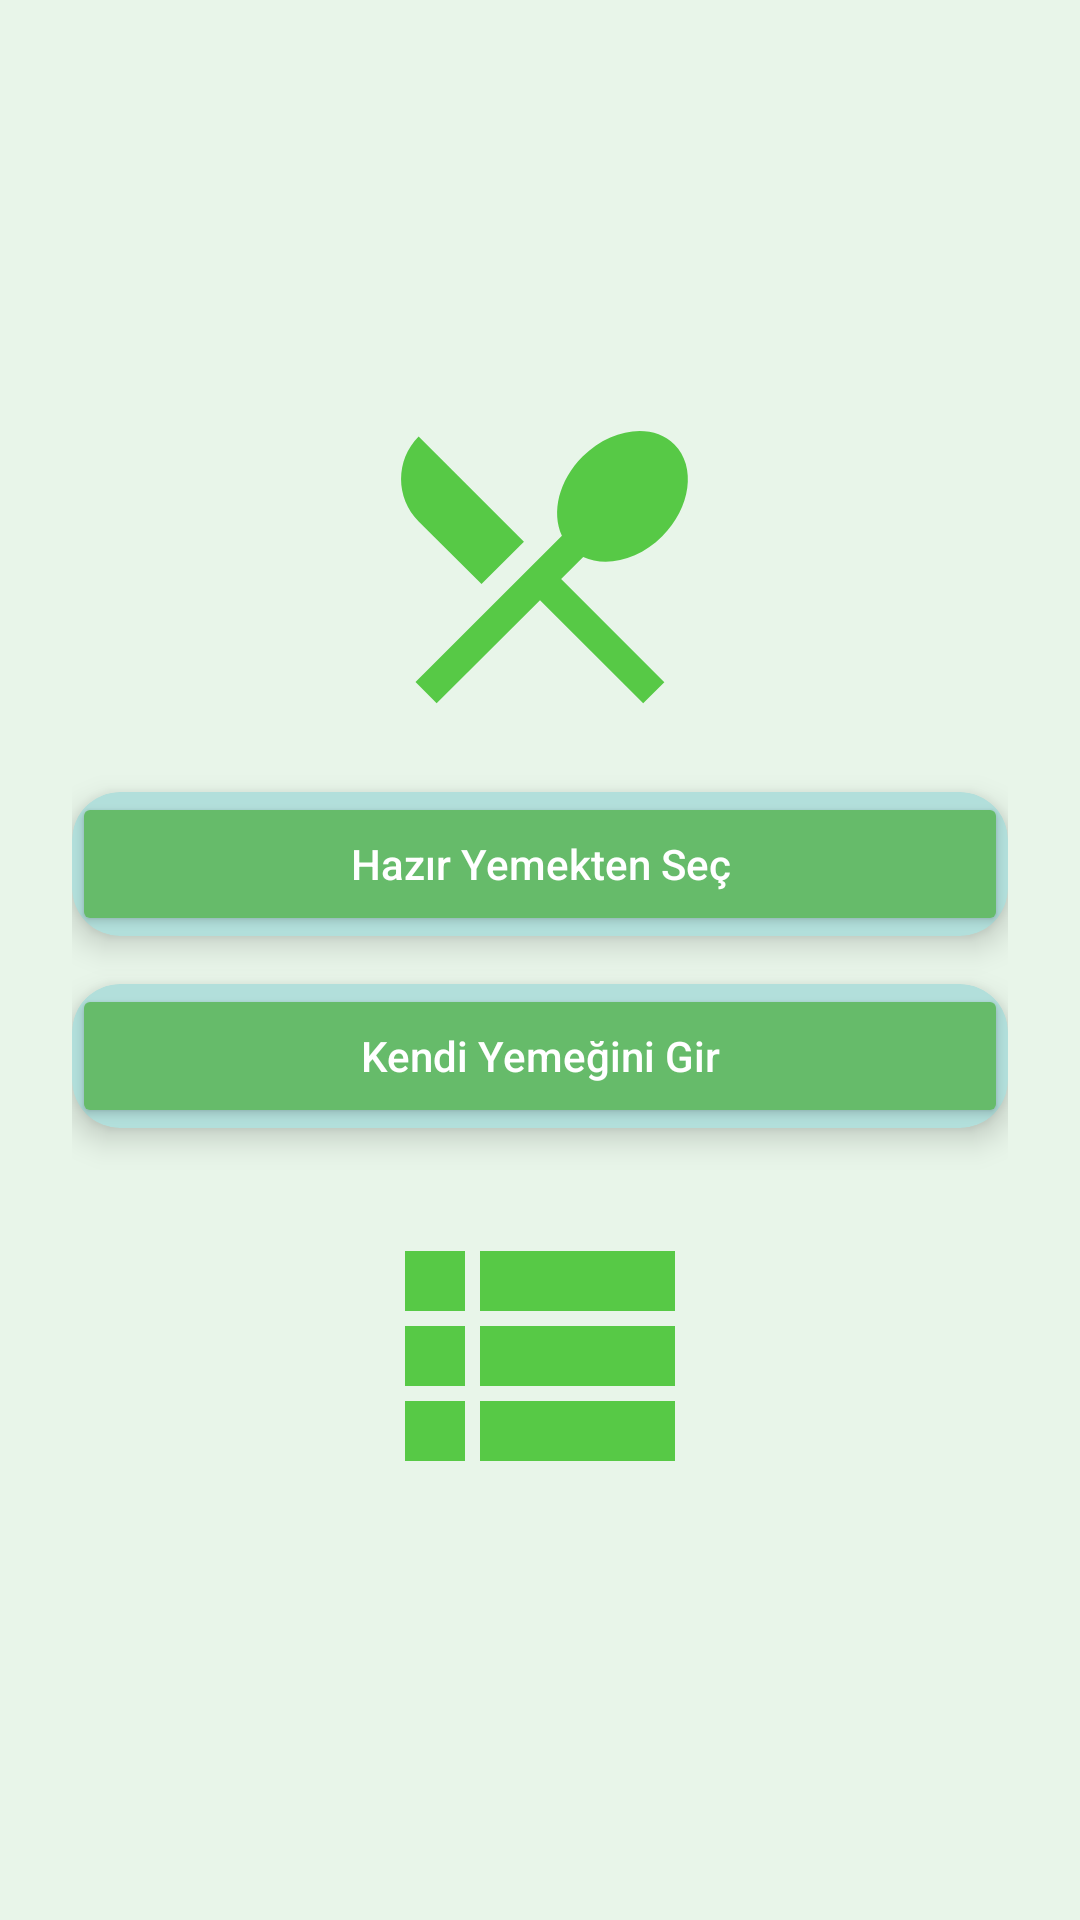

Icon bounding boxes for this 1080px×1920px phone screenshot, format bbox(x1, y1, x2, y2):
Hazır Menü: bbox(401, 431, 688, 703)
Yemek Giriş Formu: bbox(405, 1251, 675, 1461)
